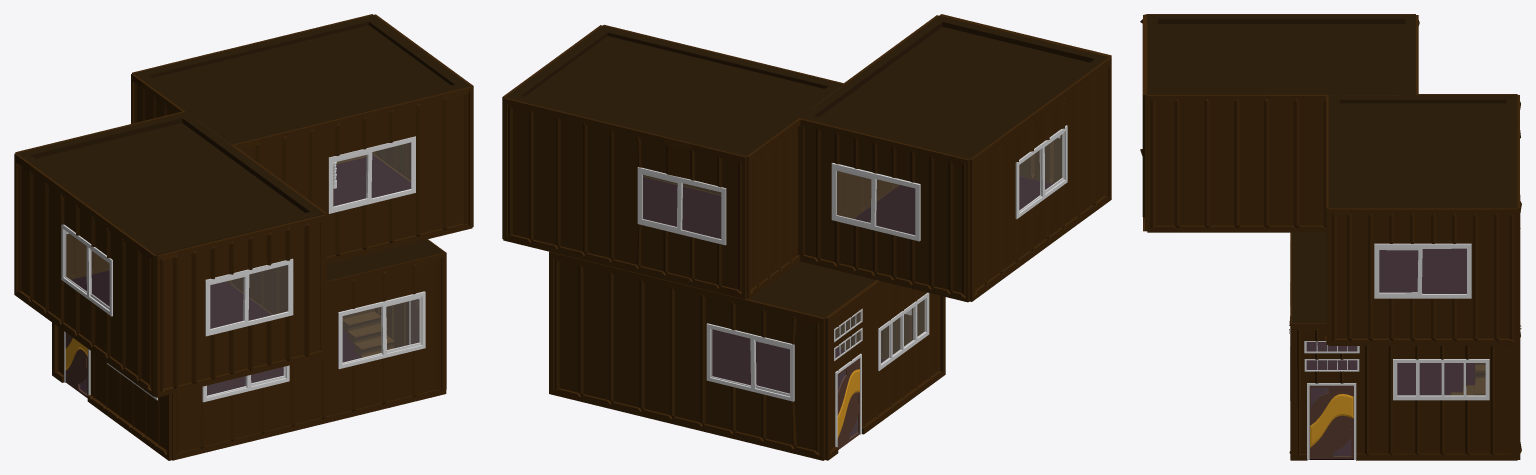
The model's file is 3D_MrsWatts.fbx.
The picture shows the model from 3 angles, left to right: view 1: azimuth 30°, elevation 25°; view 2: azimuth 150°, elevation 25°; view 3: azimuth 270°, elevation 25°; orthographic projection. The views are drawn at different scales.
Parts seen in each view (by area): view 1: Base3.014, Base2, Base1, Stairs, Backdoor; view 2: Base3.014, Base2, Base1, Backdoor; view 3: Base2, Base3.014, Base1, FrontDoor, Stairs.
Part boxes in pixels (x1,y1,x2,y2): Base3.014: (14,111,326,397); Base2: (131,14,473,281); Base1: (52,239,446,460); Stairs: (342,308,394,357); Backdoor: (65,332,88,397); Base3.014: (798,14,1111,302); Base2: (502,24,845,299); Base1: (549,251,945,460); Backdoor: (837,358,859,449); Base2: (1324,94,1520,345); Base3.014: (1140,14,1419,232); Base1: (1289,195,1521,460); FrontDoor: (1309,385,1353,458); Stairs: (1450,363,1485,395).
Bounding box in the file's own units: 1237 × 802 × 1014.
